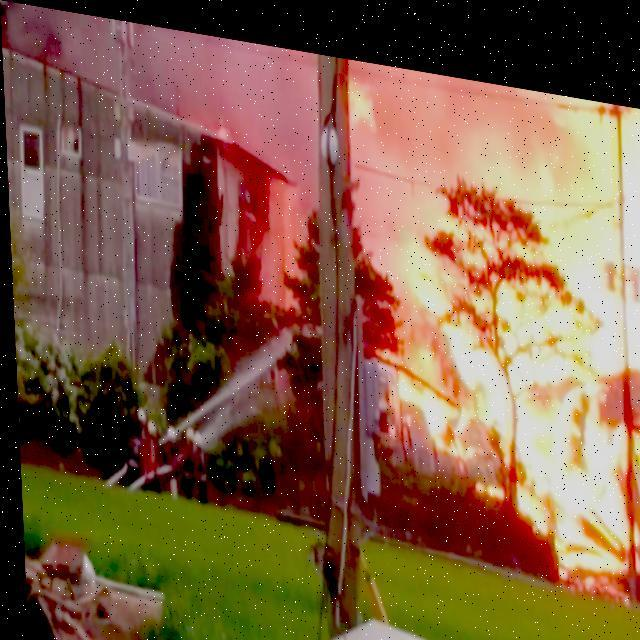Fire: (390, 61, 639, 565)
